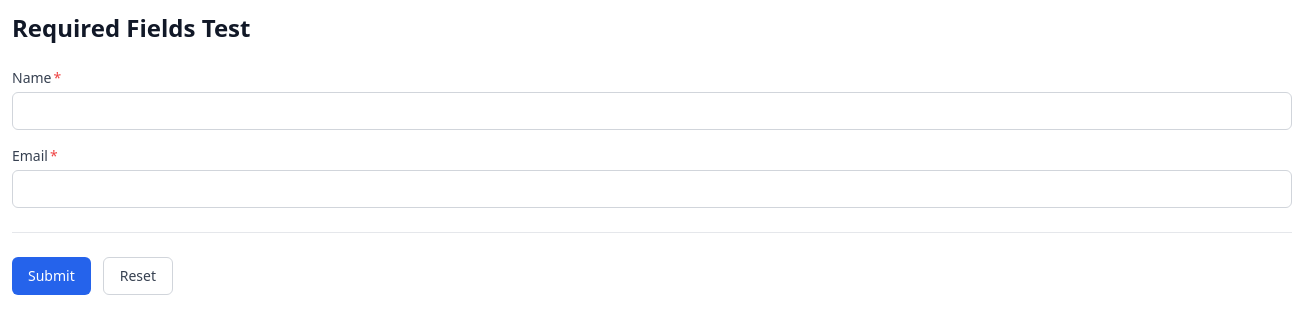
Scenario: Form Validation › Validation Rules › should validate email format
Type "John" into the field labelled "Name*" at (652, 111), box [12, 92, 1292, 130]
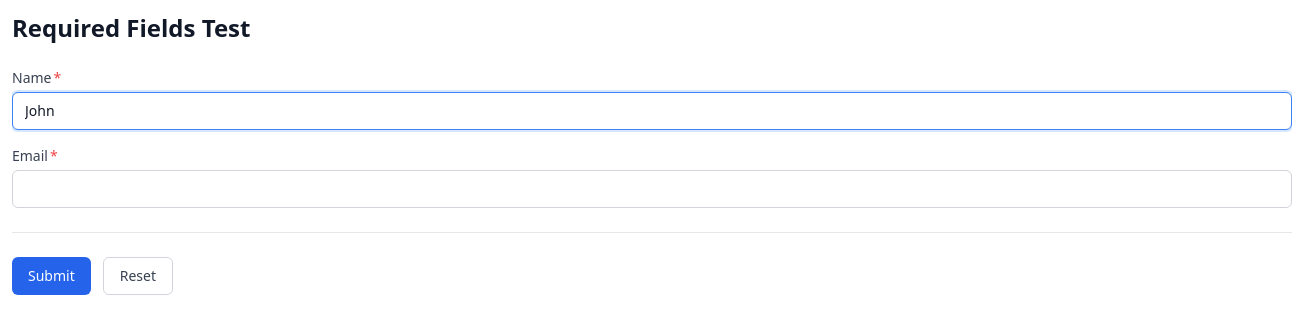
Type "invalid-email" into the field labelled "Email*" at (652, 189), box [12, 170, 1292, 208]
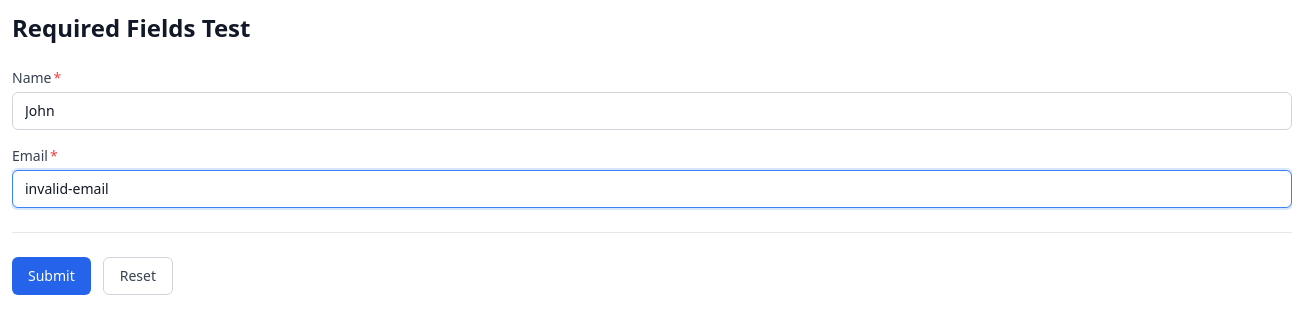
Press Tab
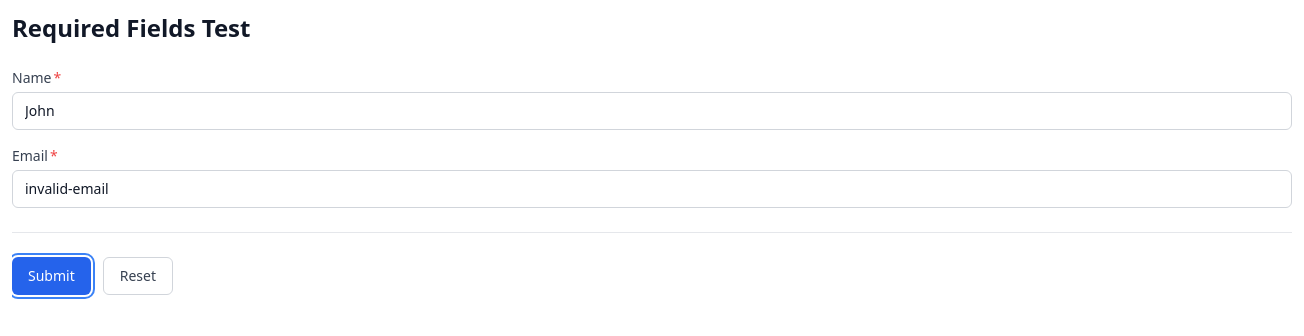
Click the button "Submit" at (51, 276), box [12, 257, 91, 295]
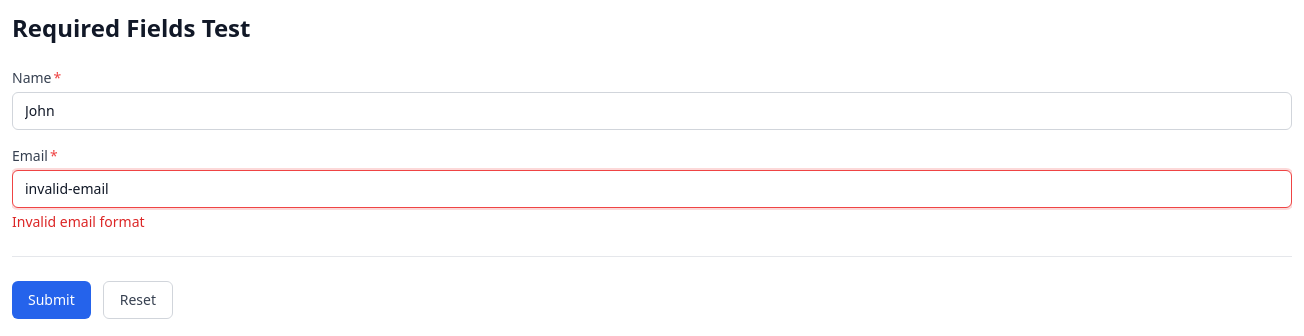
Result: the text "Invalid email format" is shown at [12, 212, 145, 231]
